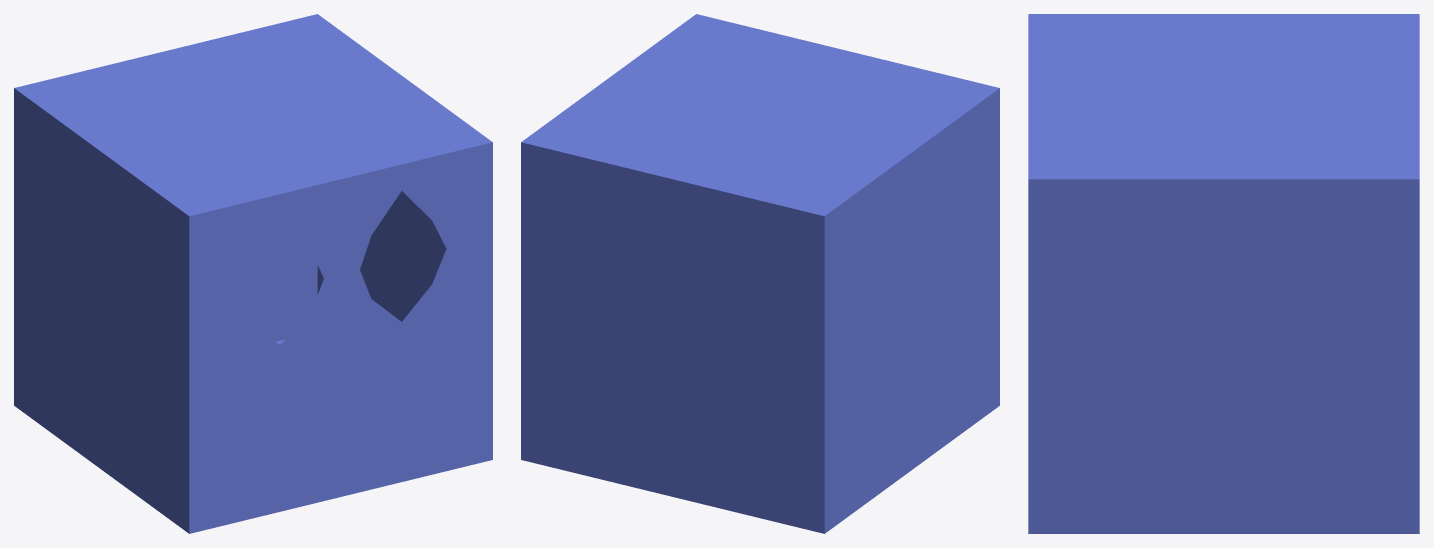
Rendered from _ask 1.fbx.
3 views of the same model, side by side, from view 1: azimuth 30°, elevation 25°; view 2: azimuth 150°, elevation 25°; view 3: azimuth 270°, elevation 25° (orthographic). The views are drawn at different scales.
Visible parts, largest first — view 1: Cube; view 2: Cube; view 3: Cube.
Boxes of the visible parts, bbox=[...] form: Cube: bbox=[14, 14, 492, 533]; Cube: bbox=[521, 14, 999, 533]; Cube: bbox=[1028, 14, 1419, 533].
Bounding box in the file's own units: 200 × 200 × 200.
